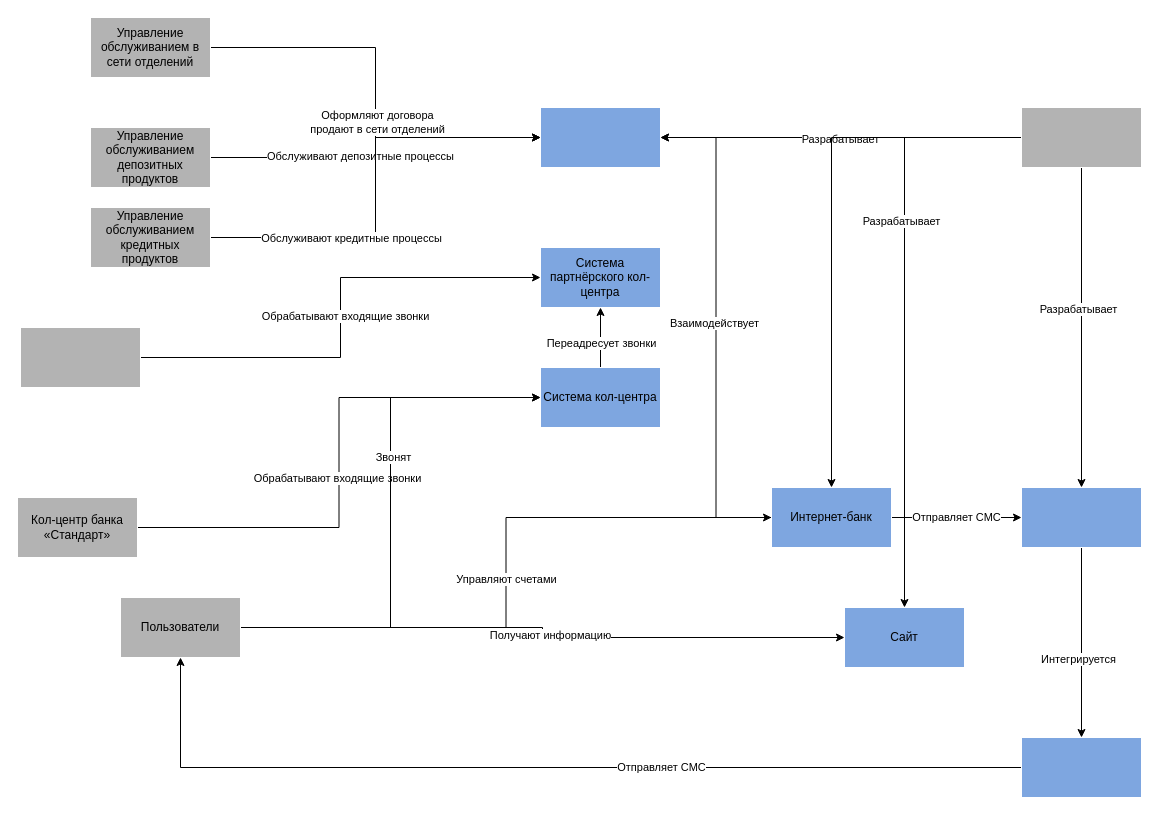
The diagram is 1159 pixels wide and 815 high, and some of its shapes have lost their labels. The shapes that lost their labels are listed below. From the top down, each one's box as (x1, y1, x2, y2) in pixels, then its label:
(540, 106, 660, 168): Автоматизированная банковская система
(1020, 106, 1142, 168): Управление IT
(20, 326, 140, 388): Партнёрский кол-центр
(1020, 486, 1142, 548): СМС-шлюз телеком-оператора
(1020, 736, 1142, 798): Телеком-оператор
